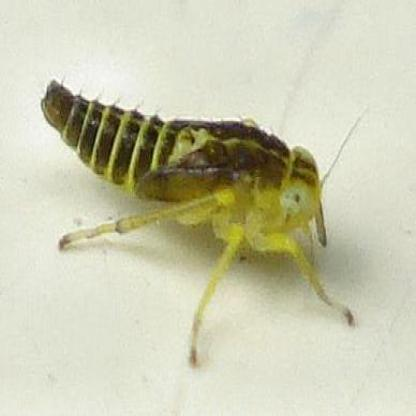green-leafhopper: (44, 76, 328, 310)
